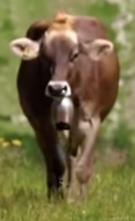cow: (9, 16, 120, 201)
